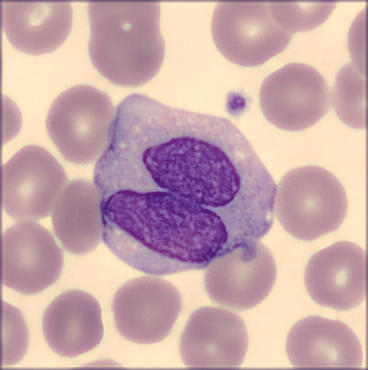WBC: (93, 87, 284, 280)
